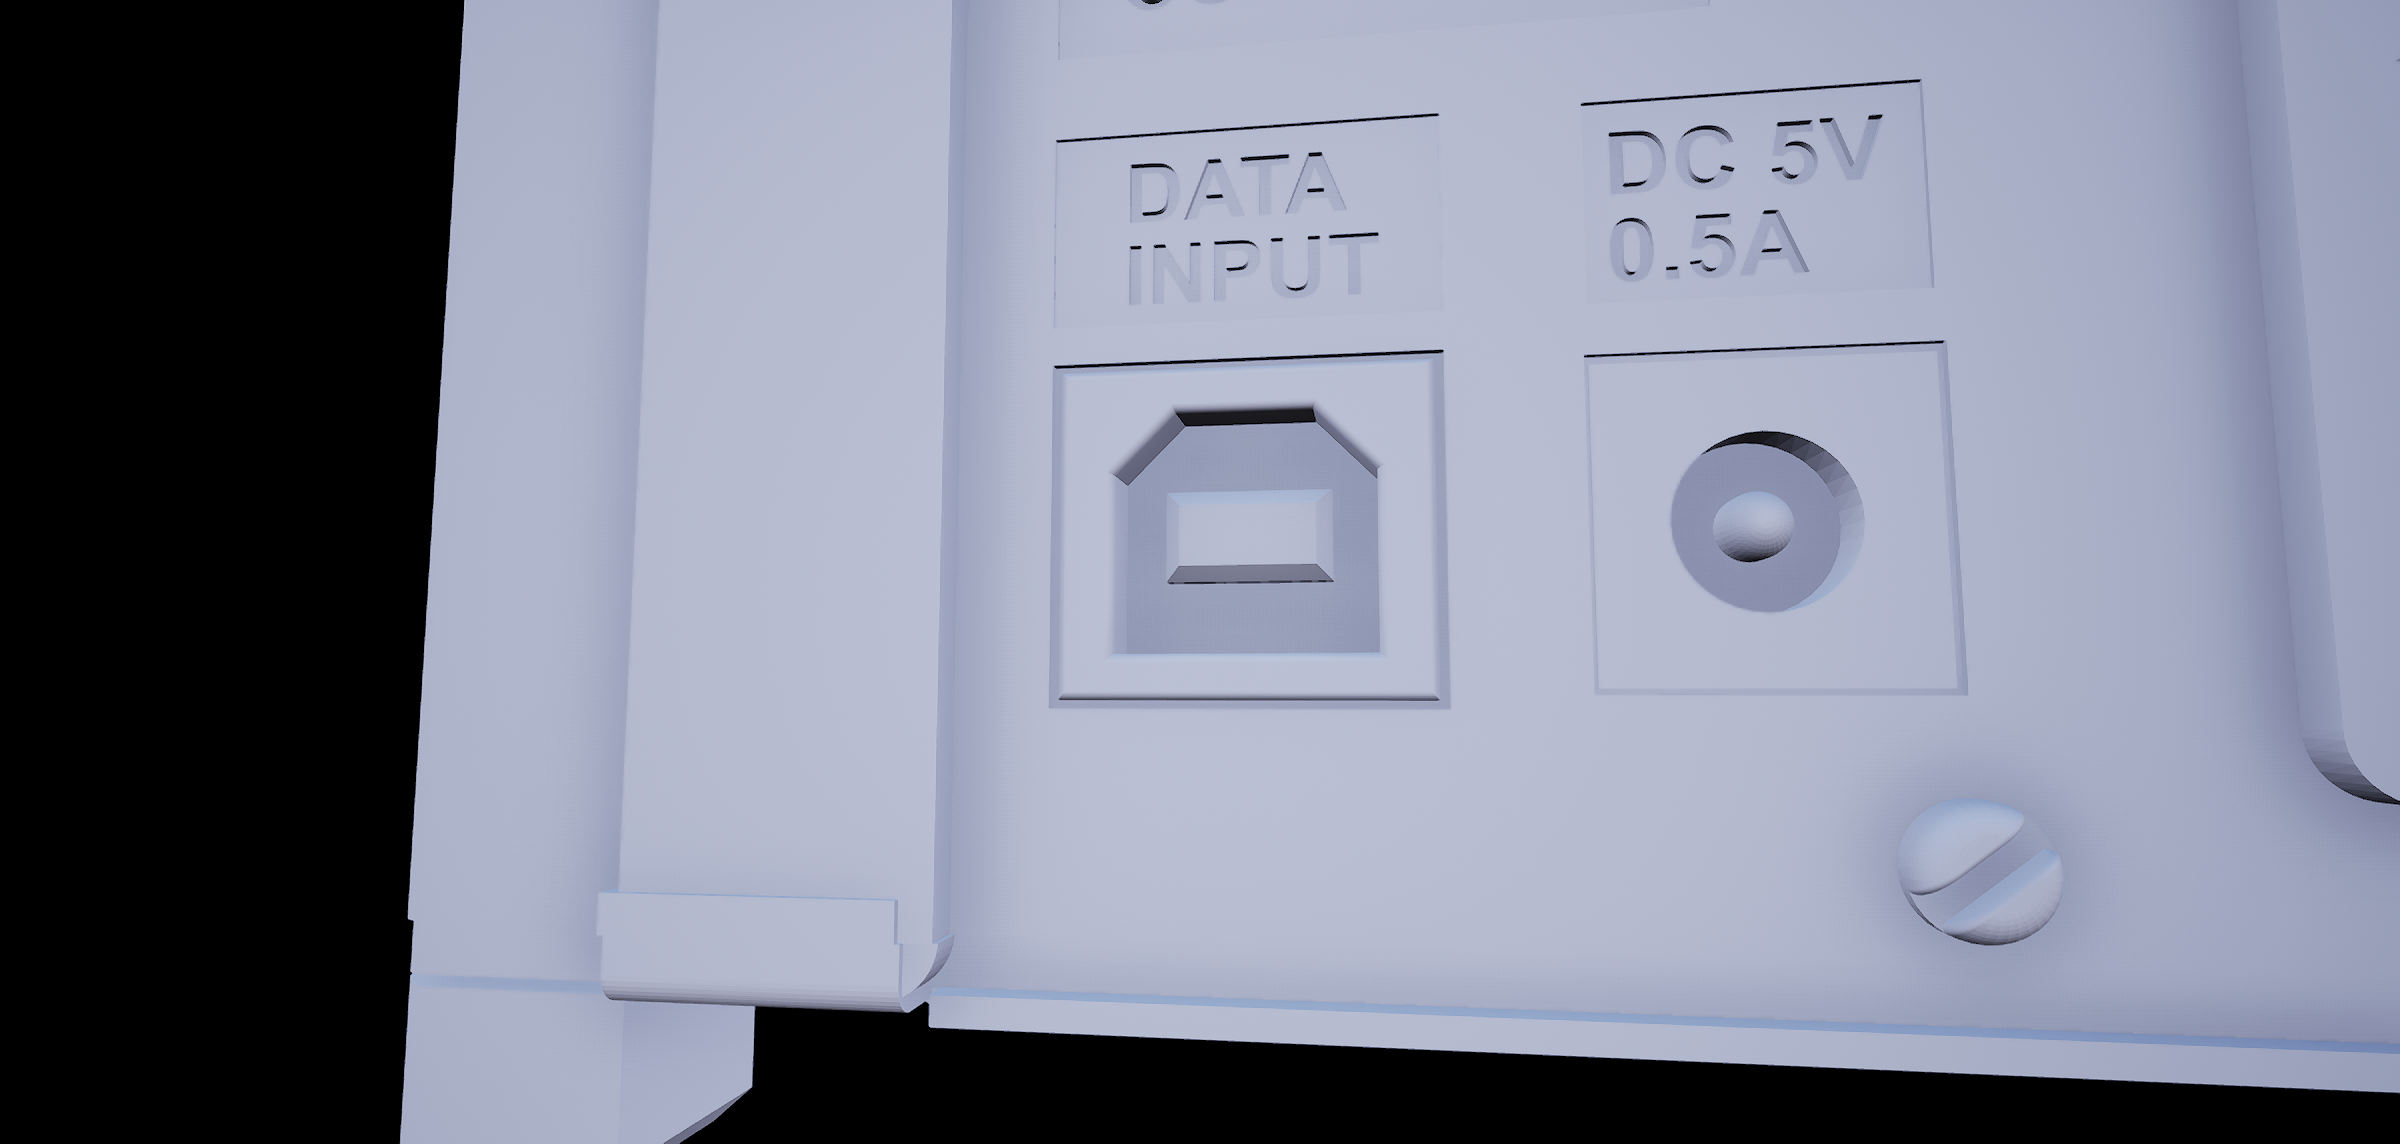dc: (1648, 413, 1896, 632)
usb: (1101, 394, 1410, 672)
